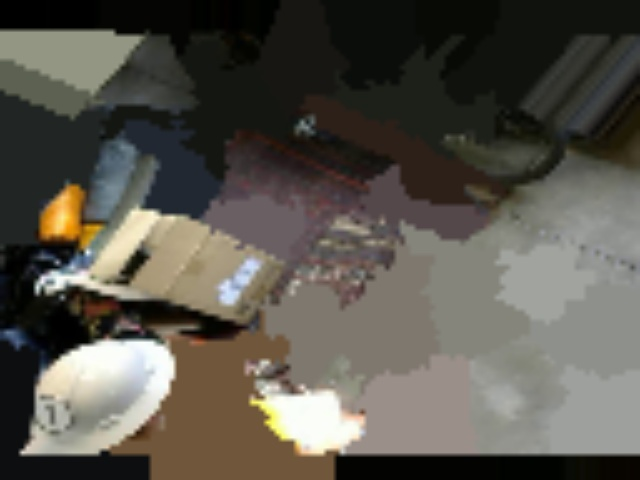one: (16, 390, 86, 438)
